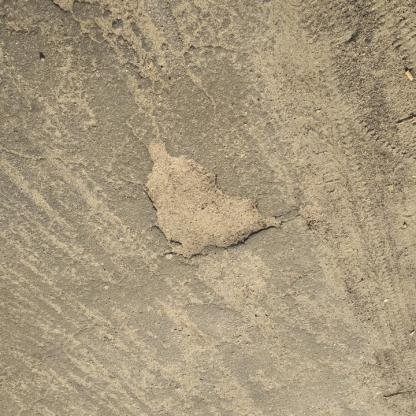pothole: (141, 144, 286, 262)
